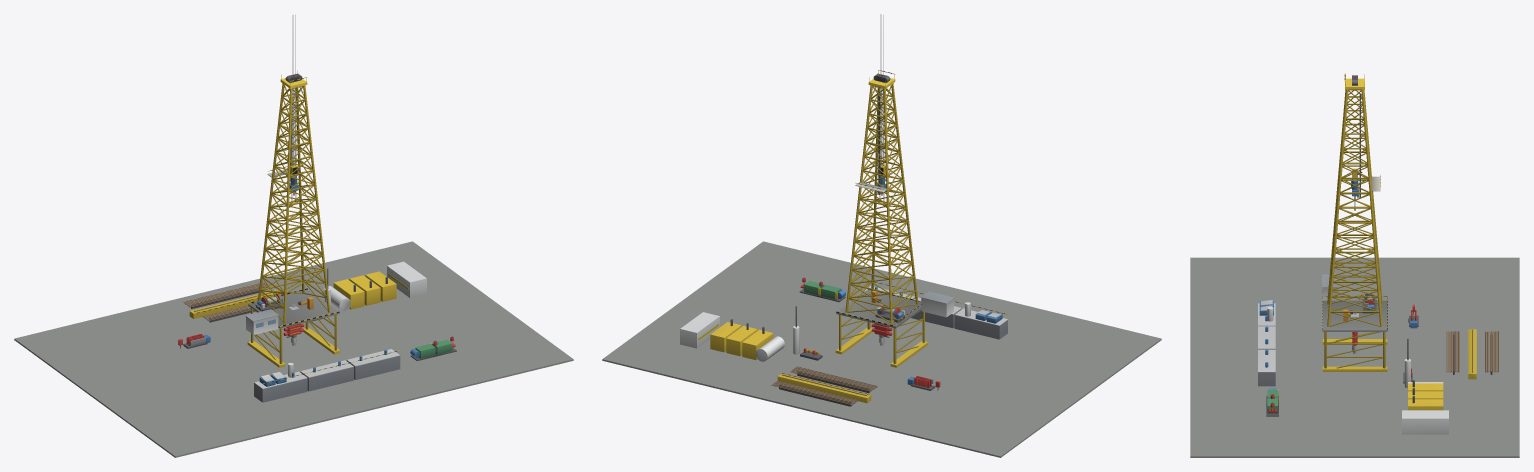
The model's file is triple_high.glb.
3 views of the same model, side by side, from view 1: azimuth 30°, elevation 25°; view 2: azimuth 150°, elevation 25°; view 3: azimuth 270°, elevation 25° (orthographic). The views are drawn at different scales.
Parts seen in each view (by area): view 1: site__pad, mast__mast, mudtanks__tanks, generators__gensets, mast__floor, mast__substructure, pipehandling__racker, generators__vfd, pipehandling__catwalk, mast__doghouse; view 2: site__pad, mast__mast, mudtanks__tanks, generators__gensets, pipehandling__racker, mast__floor, mast__substructure, generators__vfd, pipehandling__catwalk, mast__doghouse; view 3: site__pad, mast__mast, mast__floor, mudtanks__tanks, mast__substructure, generators__vfd, pipehandling__racker, generators__gensets, pipehandling__catwalk.
Boxes of the visible parts, x1,y1,x2,y2 form: site__pad: (14, 241, 573, 457); mast__mast: (257, 83, 330, 323); mudtanks__tanks: (254, 349, 400, 402); generators__gensets: (333, 271, 396, 309); mast__floor: (248, 288, 339, 328); mast__substructure: (247, 308, 340, 367); pipehandling__racker: (183, 282, 268, 322); generators__vfd: (387, 261, 426, 297); pipehandling__catwalk: (189, 289, 282, 318); mast__doghouse: (245, 309, 279, 334); site__pad: (602, 241, 1161, 457); mast__mast: (845, 83, 918, 323); mudtanks__tanks: (864, 281, 1007, 339); generators__gensets: (710, 319, 773, 359); pipehandling__racker: (771, 366, 877, 406); mast__floor: (836, 289, 921, 328); mast__substructure: (835, 311, 928, 367); generators__vfd: (680, 312, 719, 348); pipehandling__catwalk: (777, 373, 871, 403); mast__doghouse: (921, 291, 954, 317); site__pad: (1190, 257, 1519, 457); mast__mast: (1327, 89, 1382, 326); mast__floor: (1322, 296, 1387, 331); mudtanks__tanks: (1258, 303, 1275, 386); mast__substructure: (1322, 332, 1387, 371); generators__vfd: (1402, 410, 1448, 434); pipehandling__racker: (1446, 331, 1498, 374); generators__gensets: (1408, 380, 1443, 410); pipehandling__catwalk: (1468, 329, 1476, 379).
Size of the model in its own units: 80 by 64.46 by 56.
